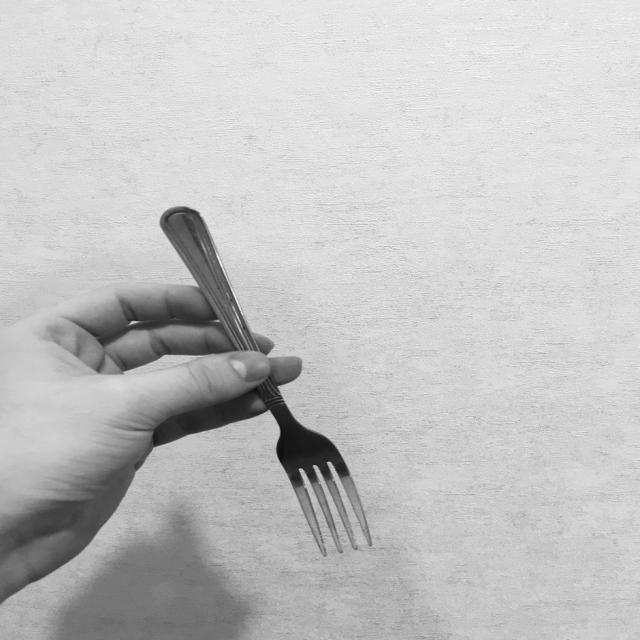fork: (158, 202, 376, 554)
